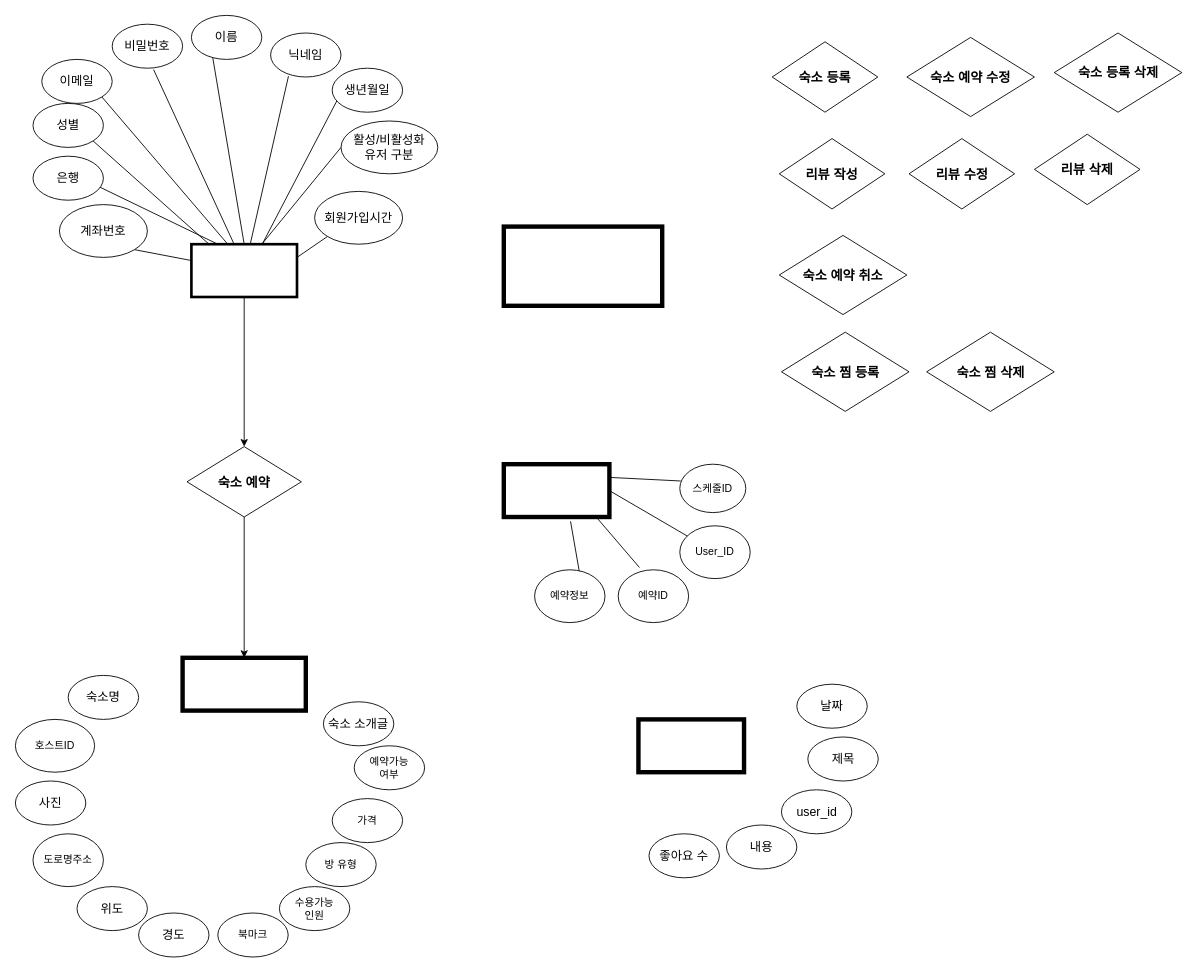
The diagram is 1198 pixels wide and 972 high, and some of its shapes have lost their labels. The shapes that lost their labels are listed below. From the top down, each one's centre as x and y in pixels, then its label:
At point (244, 270): "User".
At point (582, 266): "AccomodationLike 숙소 찜 목록".
At point (556, 490): "Reservation".
At point (244, 683): "Accomodation".
At point (691, 745): "SiteReview".
